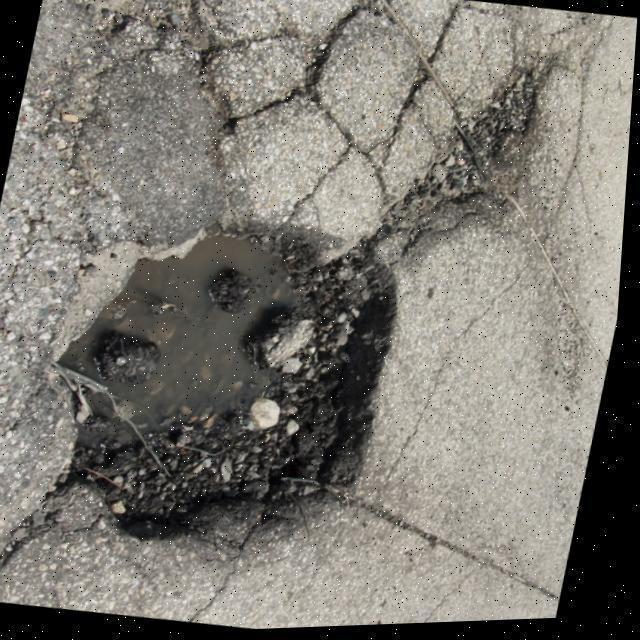Pothole: (41, 37, 560, 561)
